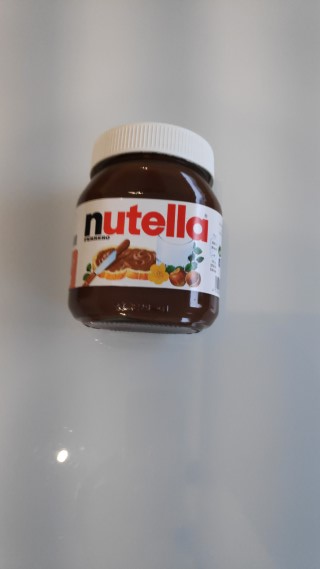nutella: (62, 117, 226, 336)
